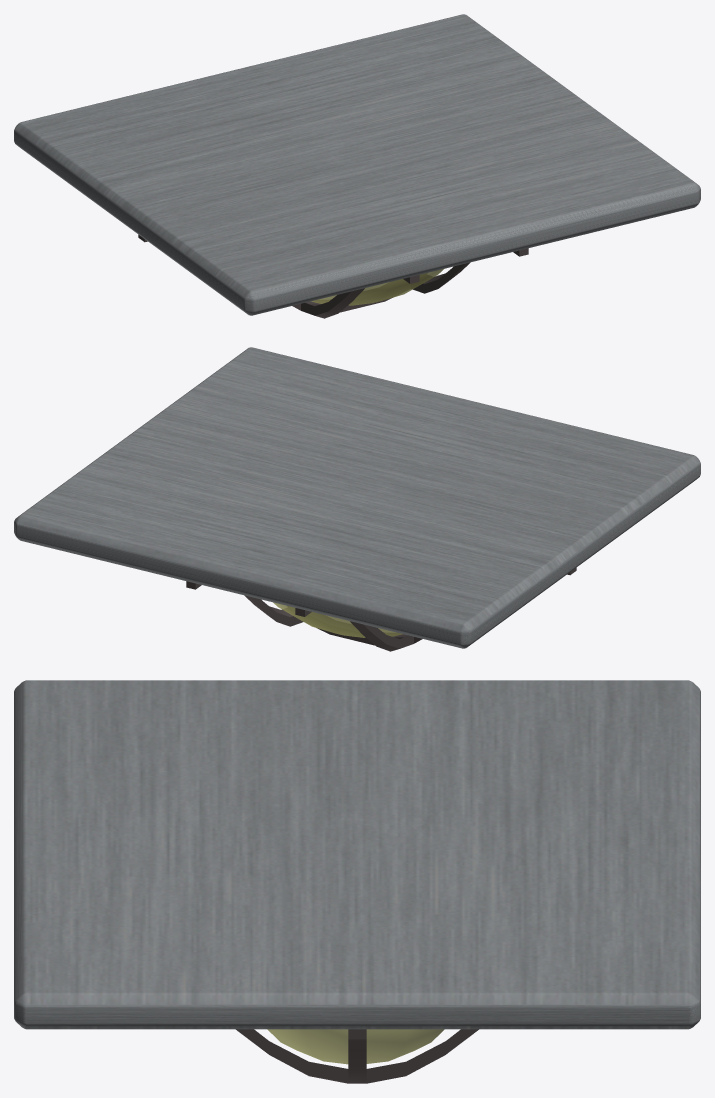
File: roomLamp.fbx
3 views of the same model, one above another, from view 1: azimuth 30°, elevation 25°; view 2: azimuth 150°, elevation 25°; view 3: azimuth 270°, elevation 25° (orthographic). The views are drawn at different scales.
Parts seen in each view (by area): view 1: polySurface9; view 2: polySurface9; view 3: polySurface9.
Part boxes in pixels (x1=…): polySurface9: x1=14, y1=14, x2=700, y2=318; polySurface9: x1=14, y1=347, x2=700, y2=651; polySurface9: x1=14, y1=680, x2=700, y2=1083.
Size of the model in its own units: 42.24 by 13.52 by 38.06.
Materials: 3 (1 with a texture image).
